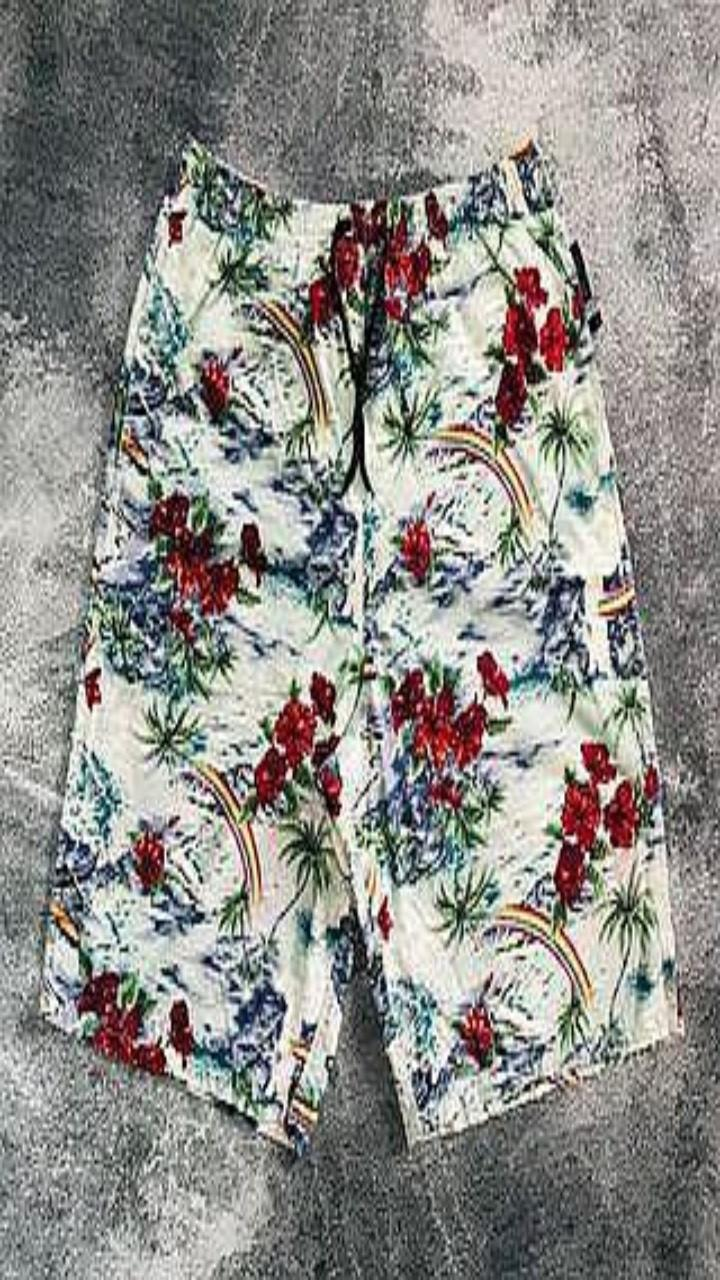Shorts: (41, 137, 682, 1152)
